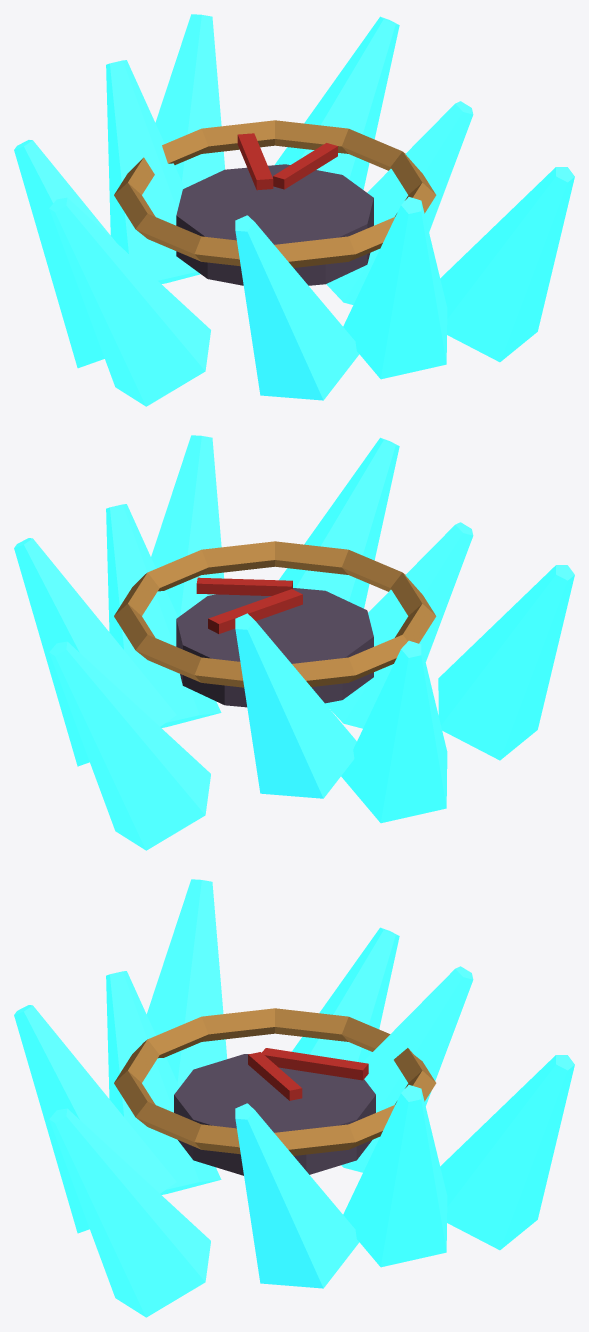
The model's file is time_fragment.glb.
3 renders of one model, top to bottom at view 1: azimuth 30°, elevation 25°; view 2: azimuth 150°, elevation 25°; view 3: azimuth 270°, elevation 25°, orthographic.
Visible parts, largest first — view 1: Shard5, Shard8, TimeRing, FragmentCore, Shard6, Shard7, Shard3, Shard1, Shard2, Shard4, Shard0, ClockHand2 (+1 smaller); view 2: Shard2, TimeRing, Shard5, Shard3, Shard4, FragmentCore, Shard1, Shard0, Shard7, Shard8, Shard6, ClockHand1 (+1 smaller); view 3: Shard8, Shard2, TimeRing, Shard0, Shard1, FragmentCore, Shard7, Shard5, Shard6, Shard3, Shard4, ClockHand1 (+1 smaller).
Part boxes in pixels (x1=…): Shard5: x1=49, y1=197, x2=210, y2=406; Shard8: x1=440, y1=167, x2=574, y2=362; TimeRing: x1=114, y1=120, x2=436, y2=267; FragmentCore: x1=176, y1=164, x2=373, y2=285; Shard6: x1=235, y1=215, x2=359, y2=400; Shard7: x1=343, y1=197, x2=447, y2=379; Shard3: x1=106, y1=60, x2=200, y2=284; Shard1: x1=274, y1=16, x2=399, y2=189; Shard2: x1=155, y1=14, x2=225, y2=187; Shard4: x1=14, y1=140, x2=115, y2=368; Shard0: x1=326, y1=101, x2=473, y2=304; ClockHand2: x1=273, y1=143, x2=337, y2=189; Shard2: x1=49, y1=641, x2=210, y2=850; TimeRing: x1=114, y1=541, x2=436, y2=687; Shard5: x1=438, y1=565, x2=574, y2=760; Shard3: x1=235, y1=613, x2=356, y2=798; Shard4: x1=341, y1=640, x2=447, y2=823; FragmentCore: x1=176, y1=588, x2=373, y2=707; Shard1: x1=14, y1=538, x2=176, y2=766; Shard0: x1=106, y1=504, x2=221, y2=727; Shard7: x1=279, y1=437, x2=399, y2=608; Shard8: x1=151, y1=435, x2=224, y2=617; Shard6: x1=325, y1=522, x2=473, y2=728; ClockHand1: x1=208, y1=589, x2=302, y2=633; Shard8: x1=49, y1=1108, x2=210, y2=1317; Shard2: x1=440, y1=1055, x2=574, y2=1250; TimeRing: x1=114, y1=1008, x2=436, y2=1155; Shard0: x1=235, y1=1103, x2=359, y2=1288; Shard1: x1=343, y1=1085, x2=447, y2=1267; FragmentCore: x1=174, y1=1054, x2=375, y2=1175; Shard7: x1=14, y1=1005, x2=176, y2=1233; Shard5: x1=146, y1=879, x2=227, y2=1086; Shard6: x1=106, y1=971, x2=221, y2=1194; Shard3: x1=341, y1=966, x2=473, y2=1172; Shard4: x1=292, y1=927, x2=399, y2=1062; ClockHand1: x1=262, y1=1048, x2=368, y2=1080.
Size of the model in its own units: 3.77 by 1.8 by 4.
